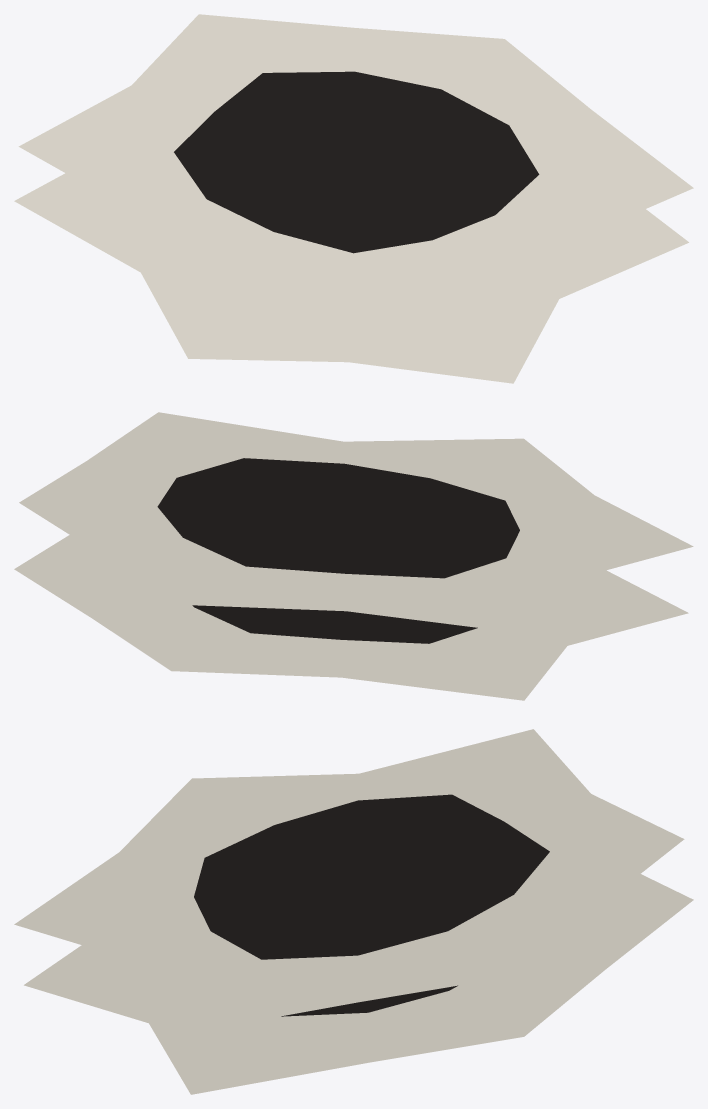
File: hole_stand_10.obj
3 views of the same model, one above another, from view 1: azimuth 30°, elevation 25°; view 2: azimuth 150°, elevation 25°; view 3: azimuth 270°, elevation 25° (orthographic). The views are drawn at different scales.
Bounding box in the file's own units: 0.0492 × 0.0129 × 0.0543.
